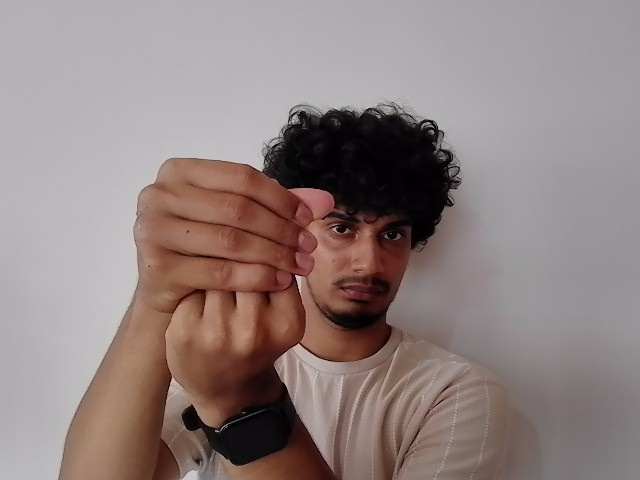with: (122, 152, 336, 361)
